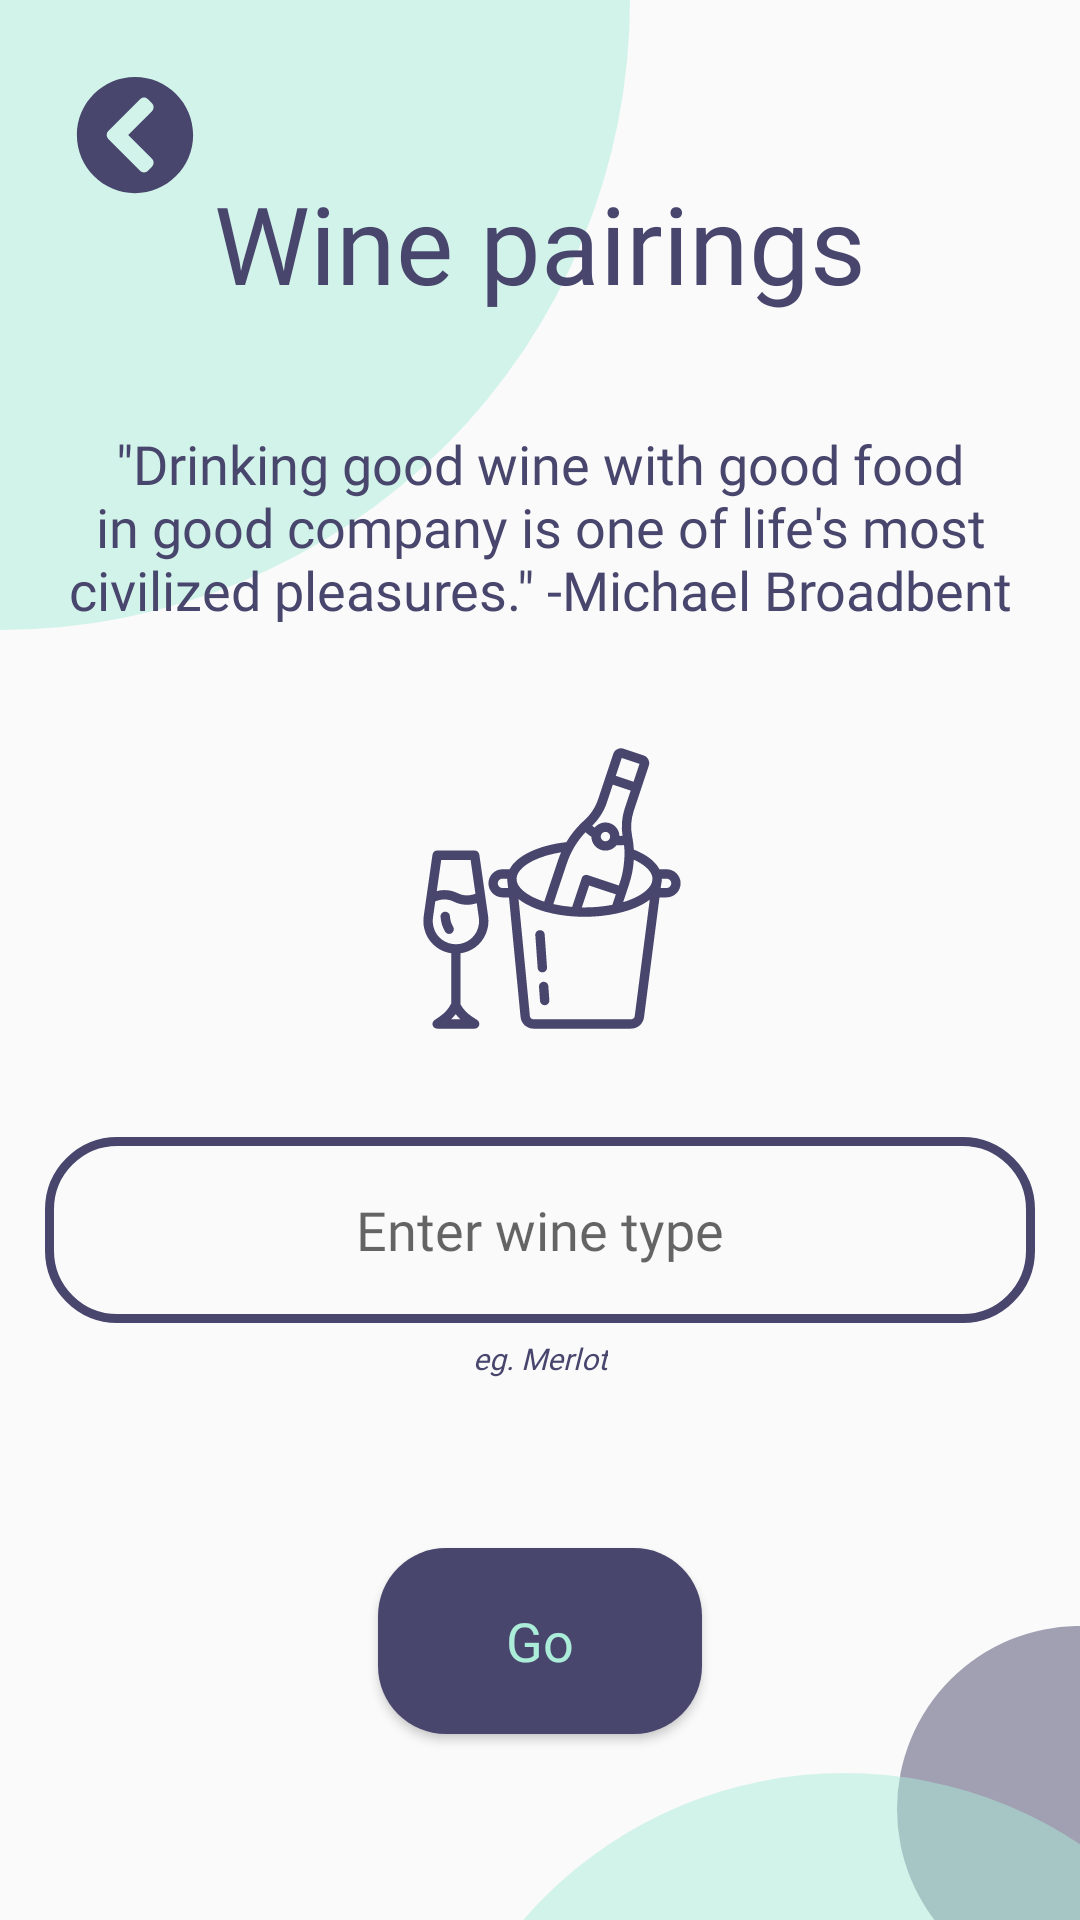

Icons on this 1080 x 1920 Android screen, each with its box as (x1, y1, x2, y2):
back arrow: (77, 77, 193, 194)
